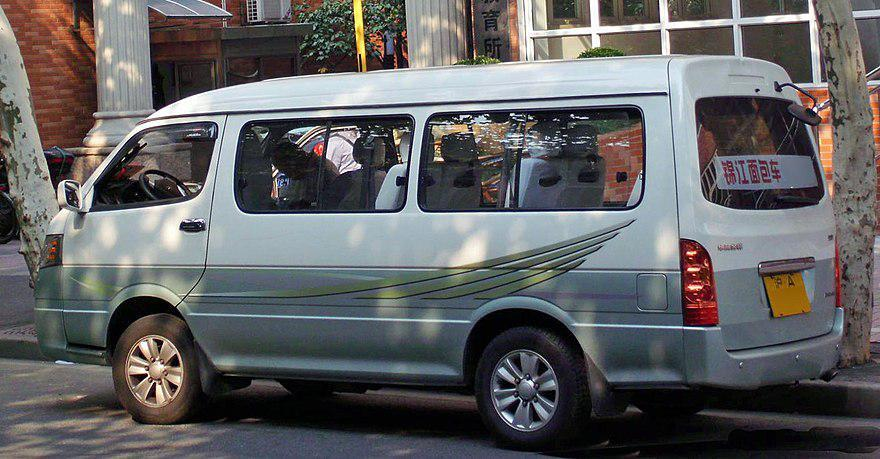van: (28, 63, 853, 434)
